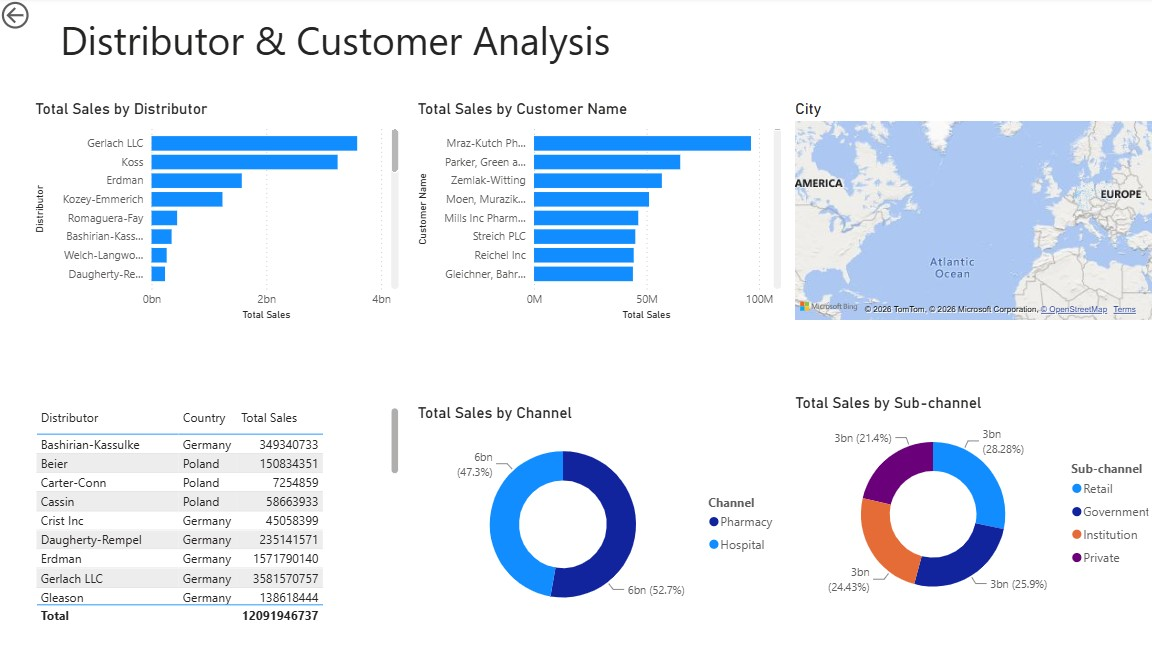

What the dashboard file says about the page in this screenshot:
{"tool":"powerbi","page":{"name":"Page 2","canvas":[1280,720],"ordinal":1},"visuals":[{"type":"clusteredBarChart","fields":{"Category":["Dim_Distributor.Distributor"],"Y":["Fact_Sales.Total Sales"]},"box":[37,112.5,408.9,247],"z":0},{"type":"clusteredBarChart","fields":{"Category":["Dim_customer.Customer Name"],"Y":["Fact_Sales.Total Sales"]},"box":[456.9,112.5,408.9,247],"z":1000},{"type":"filledMap","fields":{"Category":["Dim_customer.City"]},"box":[871.4,112.5,408.9,247],"z":2000},{"type":"tableEx","fields":{"Values":["Dim_Distributor.Distributor","Dim_customer.Country","Fact_Sales.Total Sales"]},"box":[37,446,408.9,247],"z":3000},{"type":"actionButton","box":[0,0,100,40],"z":4000},{"type":"donutChart","fields":{"Category":["Dim_Channel.Channel"],"Y":["Fact_Sales.Total Sales"]},"box":[456.9,446,408.9,247],"z":5000},{"type":"donutChart","fields":{"Category":["Dim_Channel.Sub-channel"],"Y":["Fact_Sales.Total Sales"]},"box":[871.4,435,408.9,247],"z":6000},{"type":"textbox","box":[64.5,12.3,1026.4,54.9],"z":7000}]}

Visuals, with their boxes in screenshot pixels (x1, y1, x2, y2), scaled from the page's 1280x720 canvas onto the 1152x645 screenshot:
clusteredBarChart - Dim_Distributor.Distributor x Fact_Sales.Total Sales: 33, 101, 401, 322
clusteredBarChart - Dim_customer.Customer Name x Fact_Sales.Total Sales: 411, 101, 779, 322
filledMap - Dim_customer.City: 784, 101, 1151, 322
tableEx - Dim_Distributor.Distributor x Dim_customer.Country: 33, 400, 401, 621
actionButton: 0, 0, 90, 36
donutChart - Dim_Channel.Channel x Fact_Sales.Total Sales: 411, 400, 779, 621
donutChart - Dim_Channel.Sub-channel x Fact_Sales.Total Sales: 784, 390, 1151, 611
textbox: 58, 11, 982, 60
